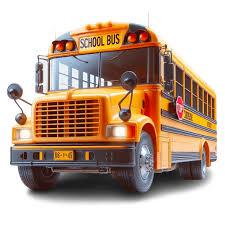bus: (6, 22, 225, 197)
